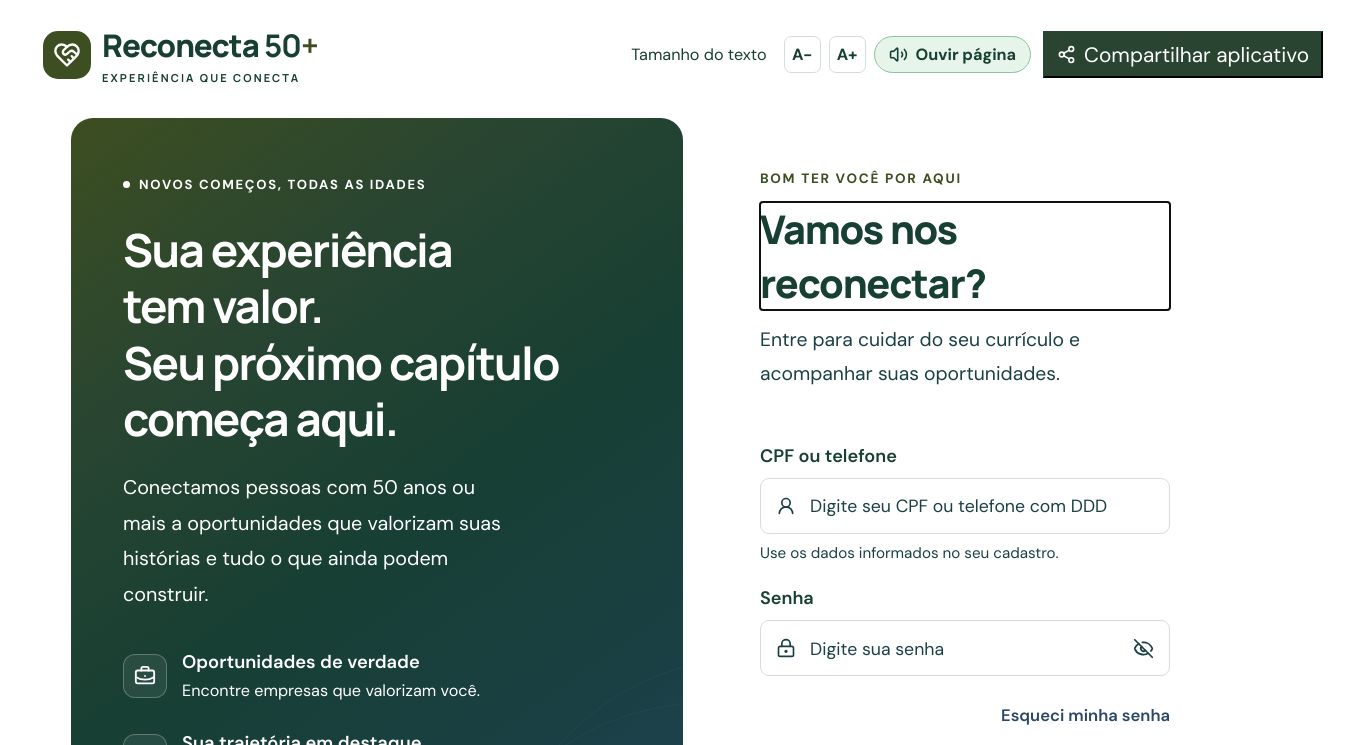
permite tentar novamente se não conseguir carregar os dados
In the field labelled "CPF ou telefone": (981, 506) [808,479,1154,533], type "85999999999"
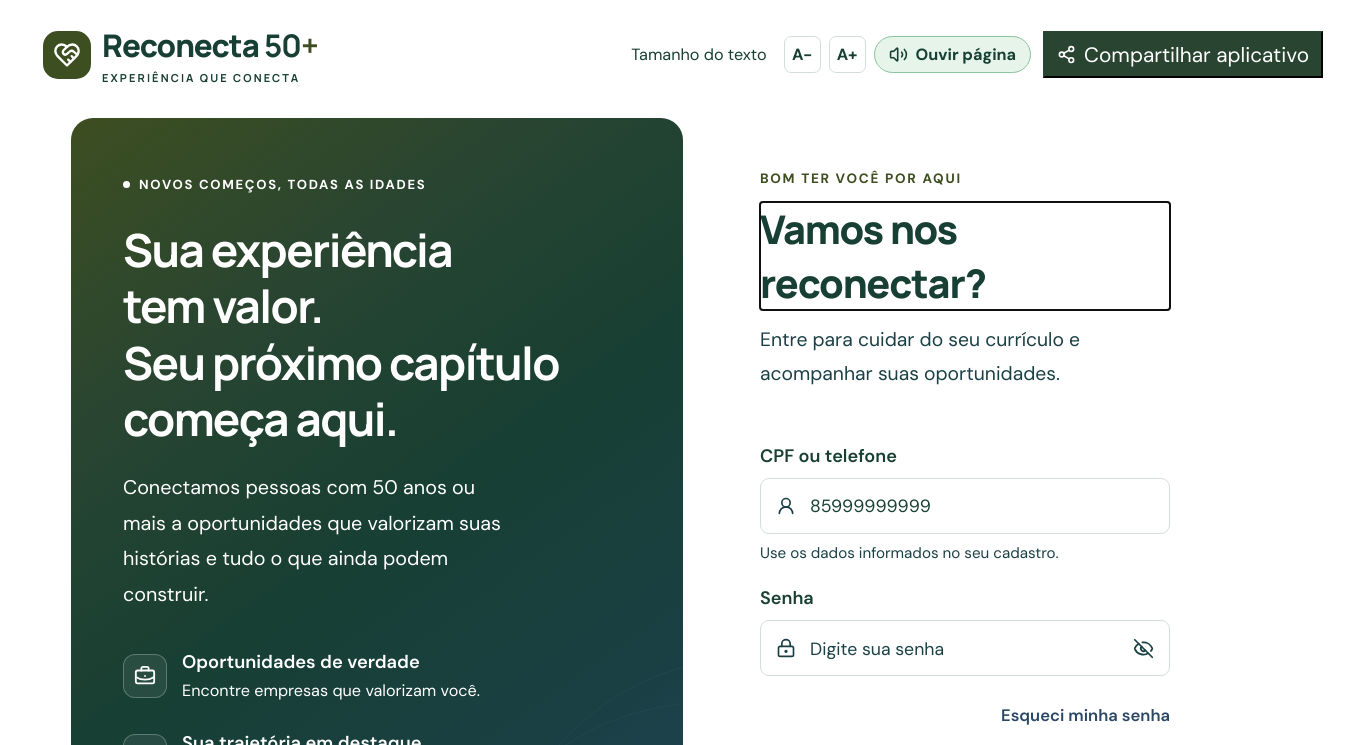
In the field labelled "Senha": (960, 648) [808,622,1112,676], type "minha senha"
(page scrolled)
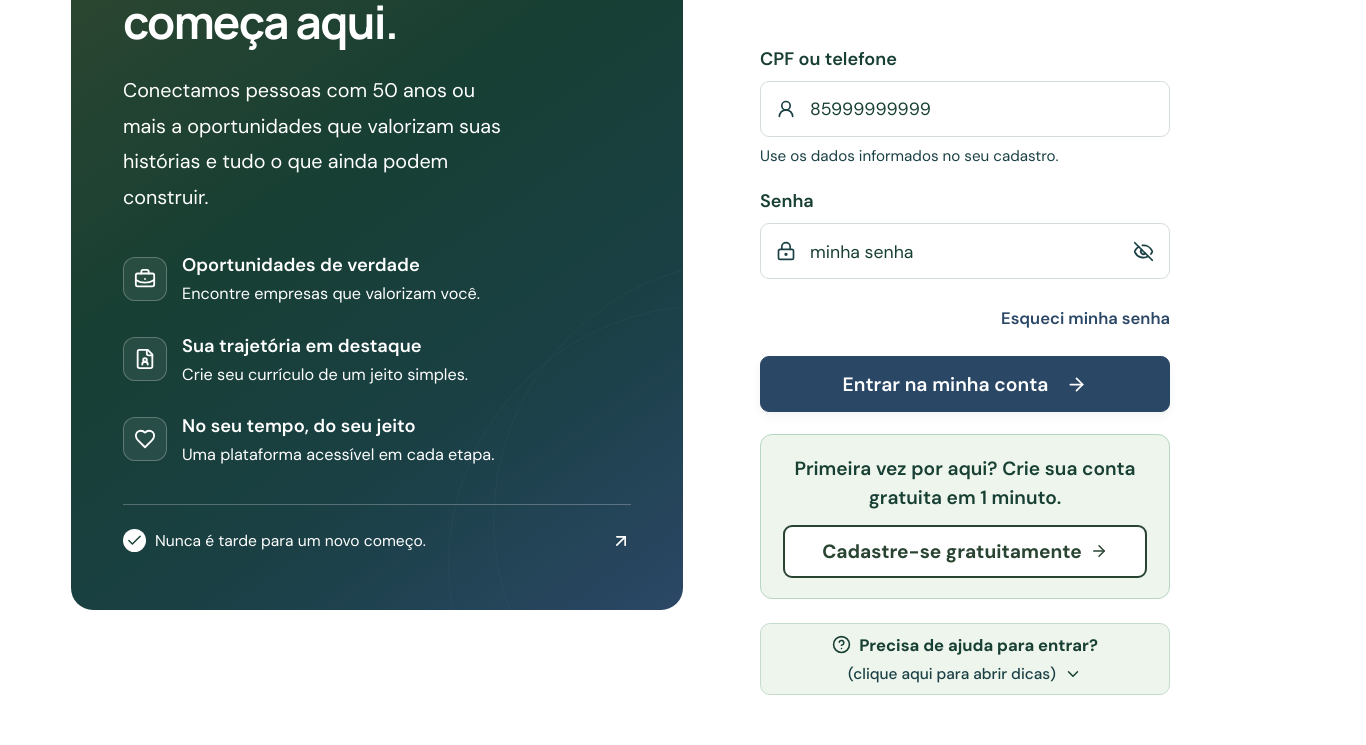
Click the button "Entrar na minha conta": (965, 384) [760,356,1170,412]
(page scrolled)
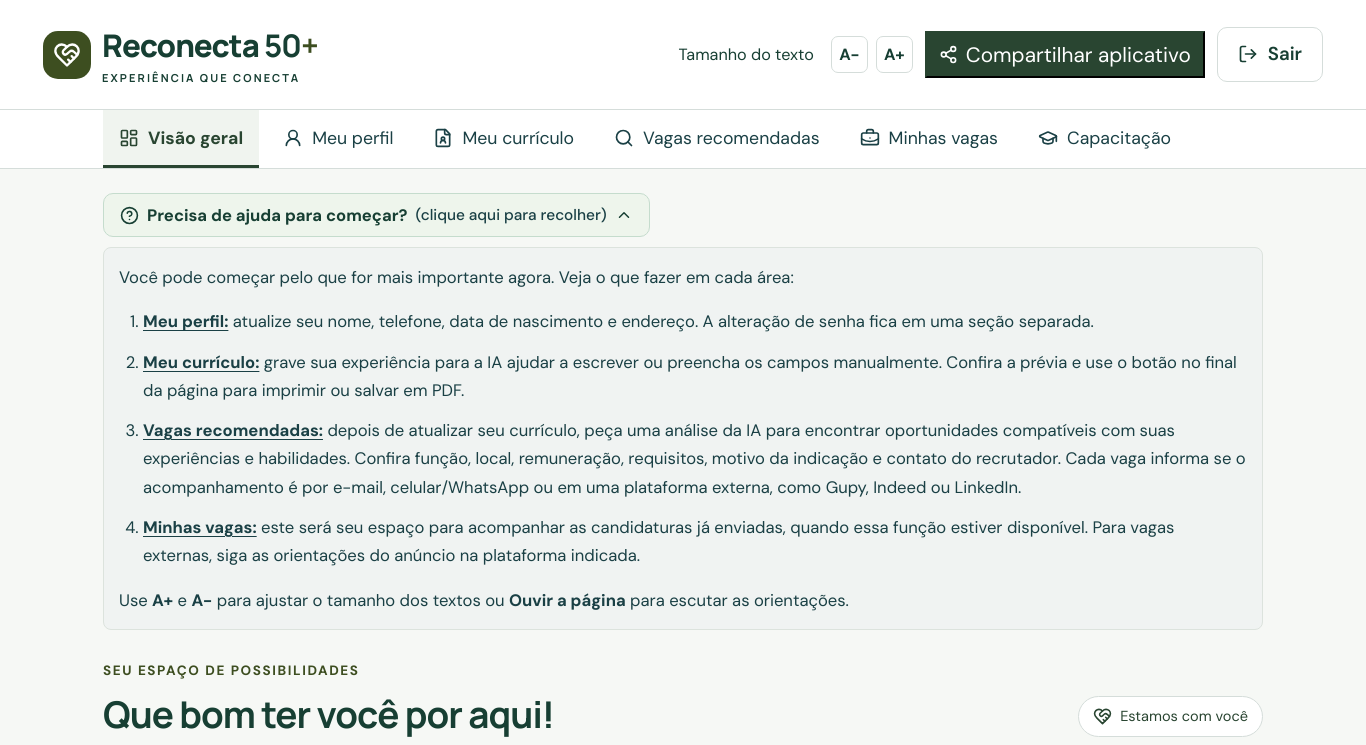
Expected: the button "Sair" is shown, [1217,28,1323,82]
Click the link "Meu perfil": (338, 138) [283,126,393,149]
(page scrolled)
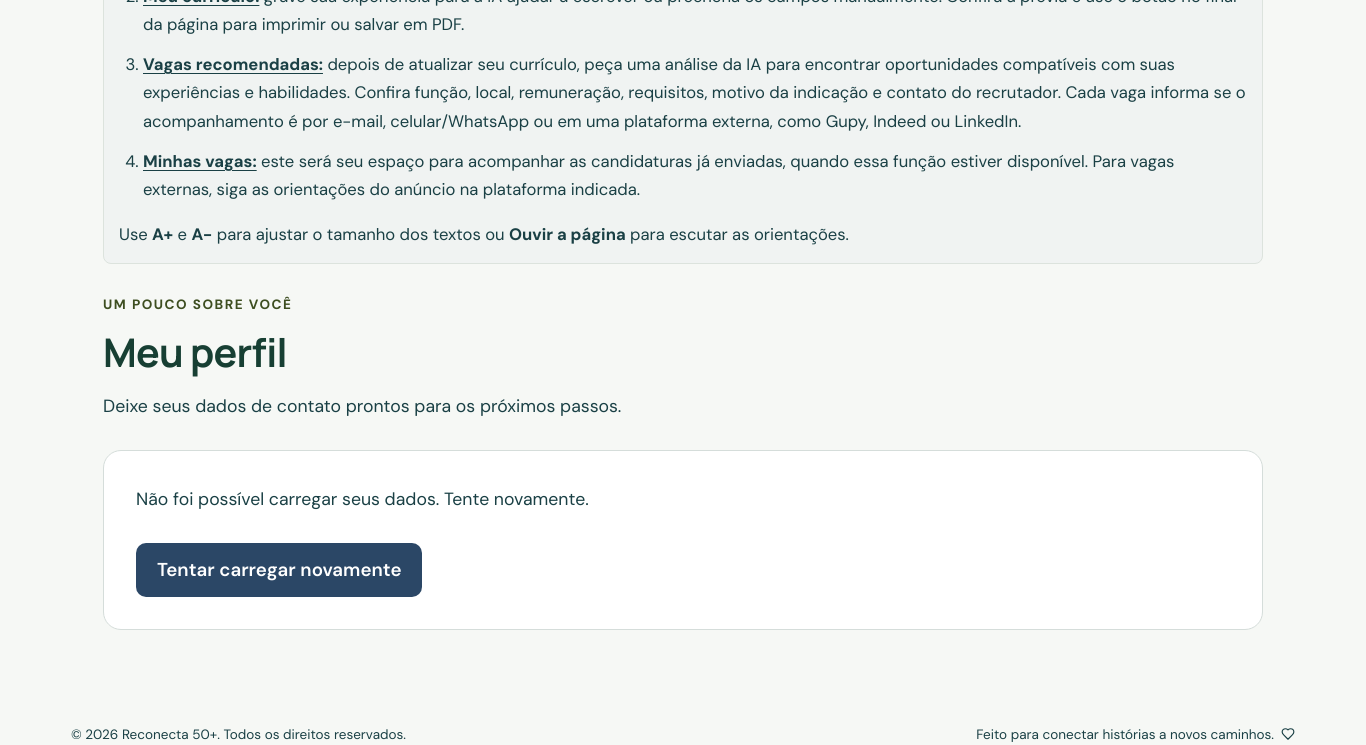
Expected: the message "Não foi possível carregar seus dados. Tente novamente." is shown, [136,487,589,510]
Click the button "Tentar carregar novamente": (279, 570) [136,543,422,597]
(page scrolled)
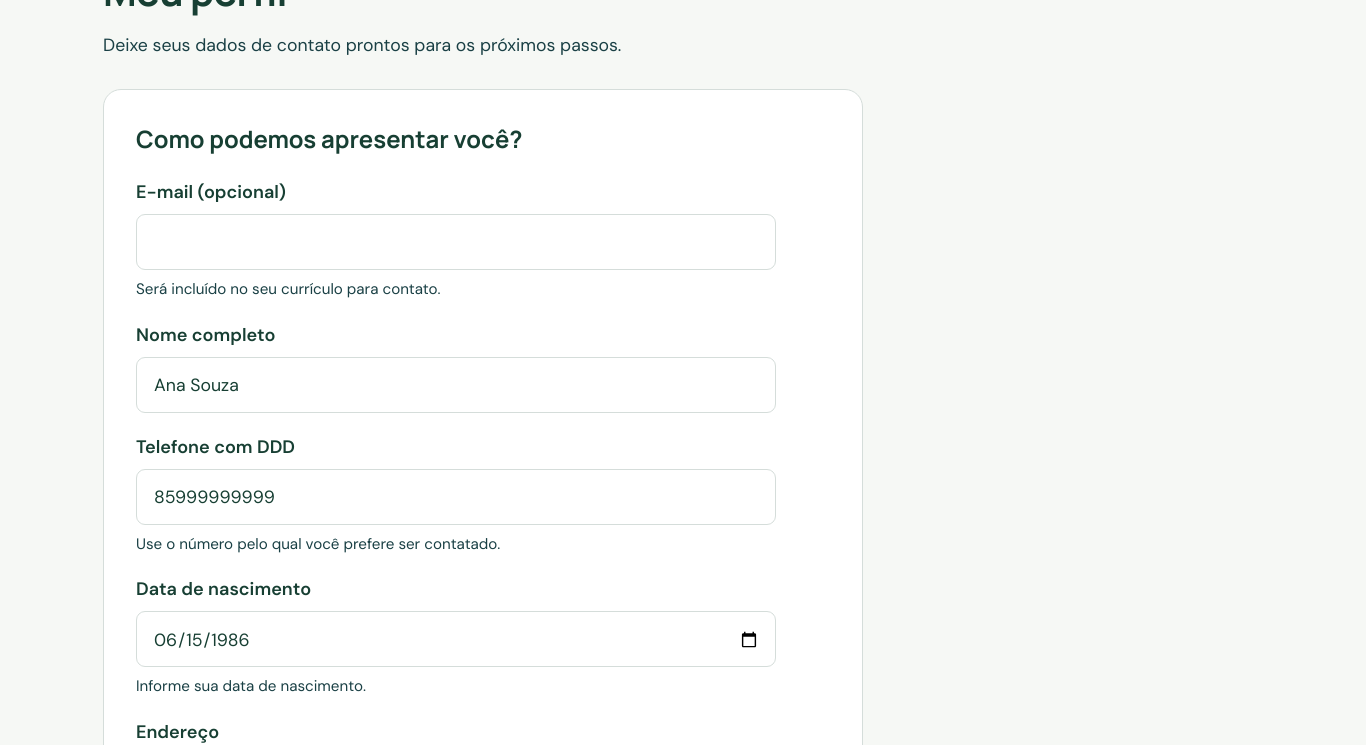
Expected: the field labelled "Nome completo" holds "Ana Souza", [152,358,760,412]
